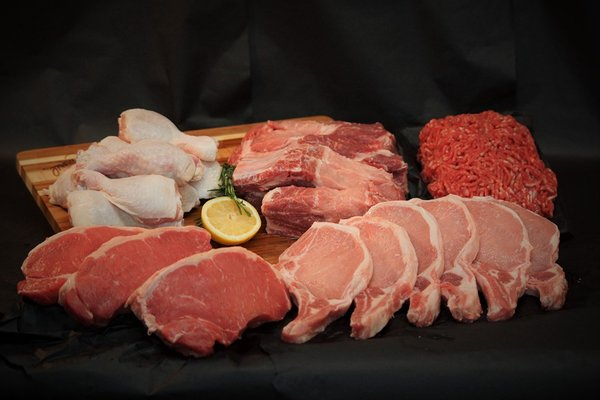taco: (201, 195, 263, 246)
